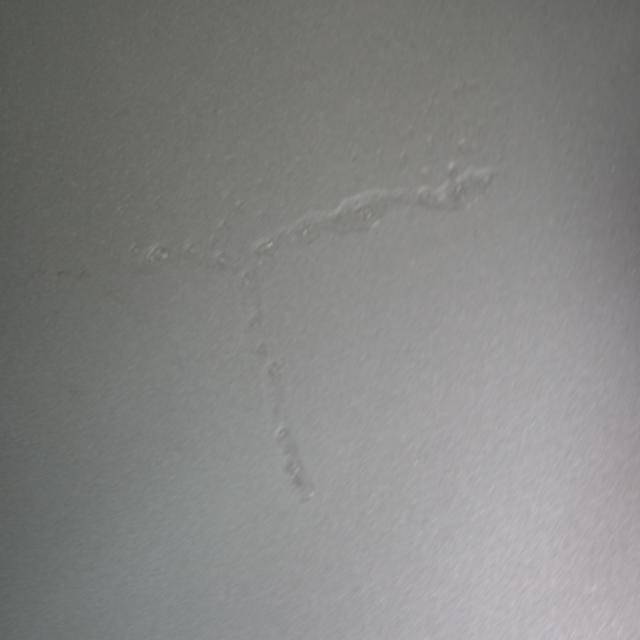runs: (127, 172, 500, 500)
